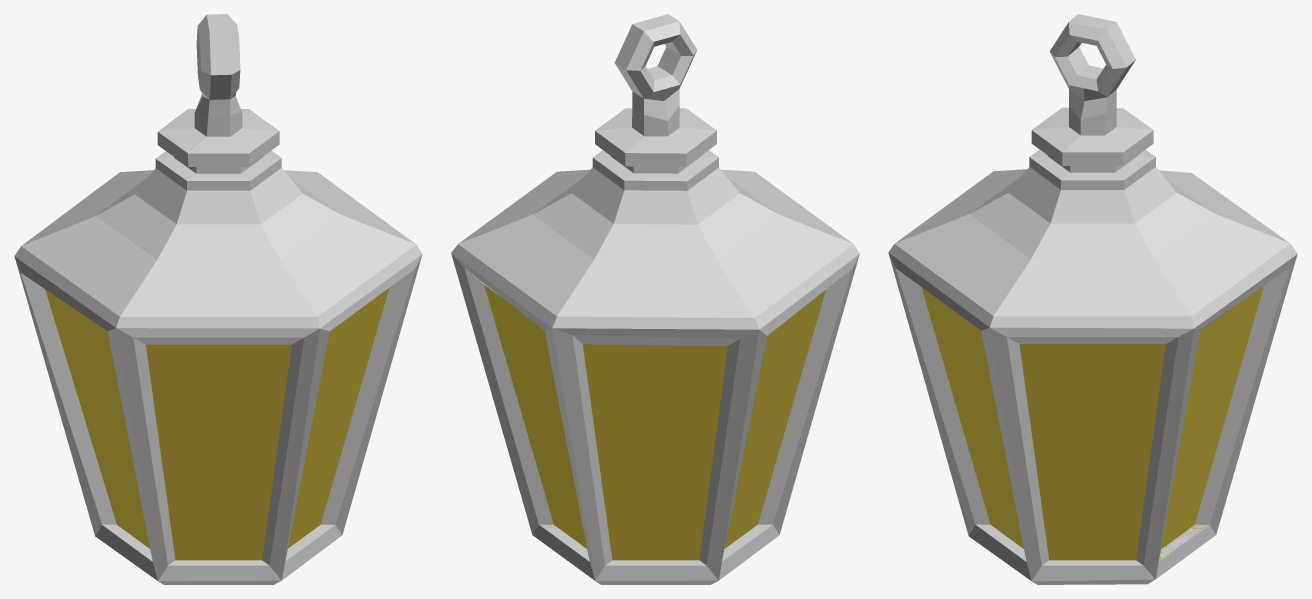
File: lantern.fbx
The picture shows the model from 3 angles, left to right: view 1: azimuth 30°, elevation 25°; view 2: azimuth 150°, elevation 25°; view 3: azimuth 270°, elevation 25°; orthographic projection.
Visible parts, largest first — view 1: Cylinder; view 2: Cylinder; view 3: Cylinder.
Part boxes in pixels (<box>): Cylinder: <box>14,14,422,584</box>; Cylinder: <box>451,14,859,584</box>; Cylinder: <box>888,14,1297,584</box>.
Bounding box in the file's own units: 163 × 263 × 187.
